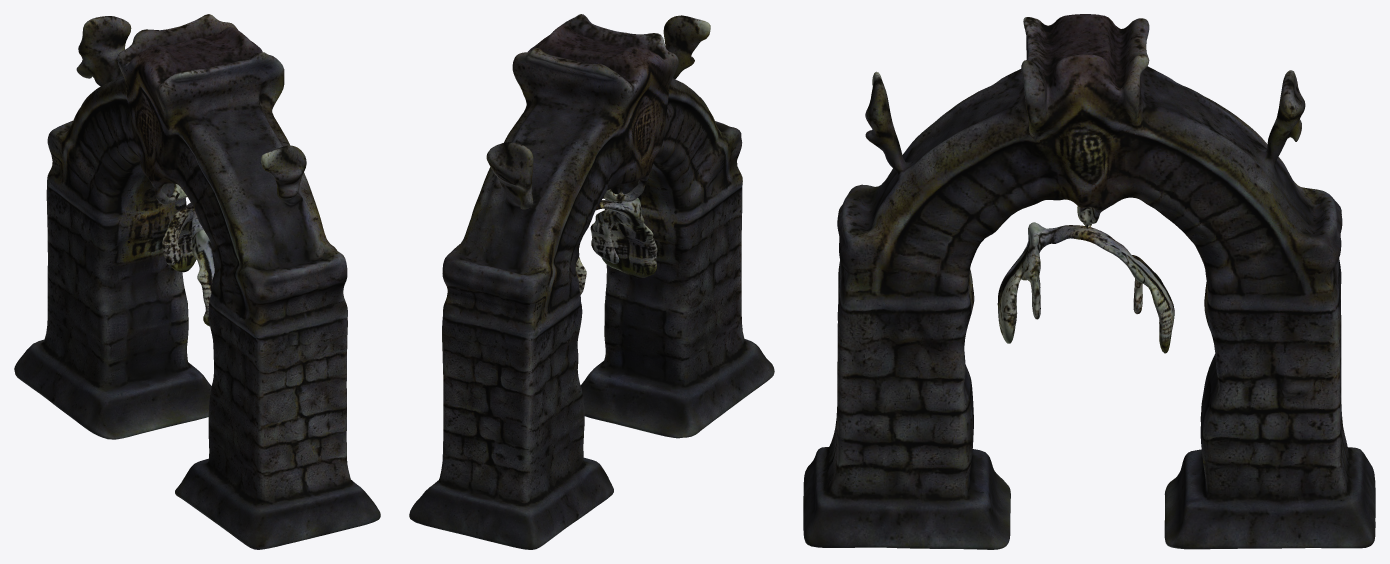
Rendered from gateway.glb.
3 renders of one model, left to right at view 1: azimuth 30°, elevation 25°; view 2: azimuth 150°, elevation 25°; view 3: azimuth 270°, elevation 25°, orthographic. The views are drawn at different scales.
Parts seen in each view (by area): view 1: model; view 2: model; view 3: model.
Part boxes in pixels (x1=…): model: x1=14, y1=14, x2=380, y2=549; model: x1=409, y1=14, x2=774, y2=549; model: x1=803, y1=14, x2=1375, y2=549.
Bounding box in the file's own units: 0.4659 × 1.41 × 1.51.
Materials: 1 (1 with a texture image).
